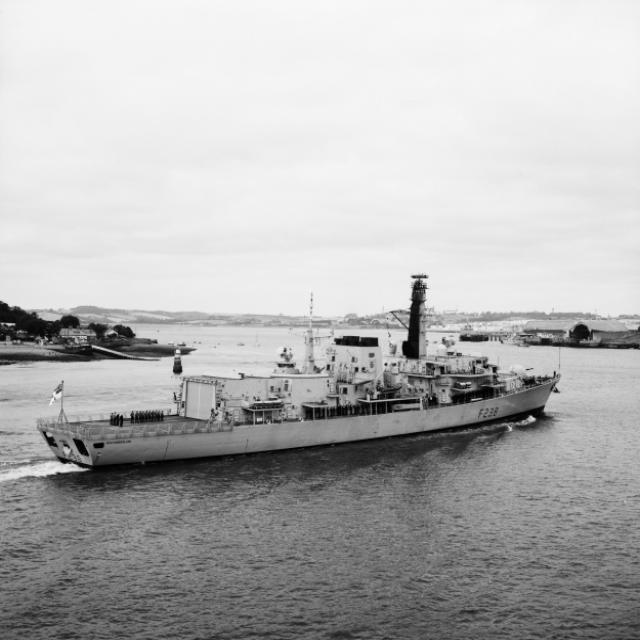Fragata: (16, 261, 580, 484)
